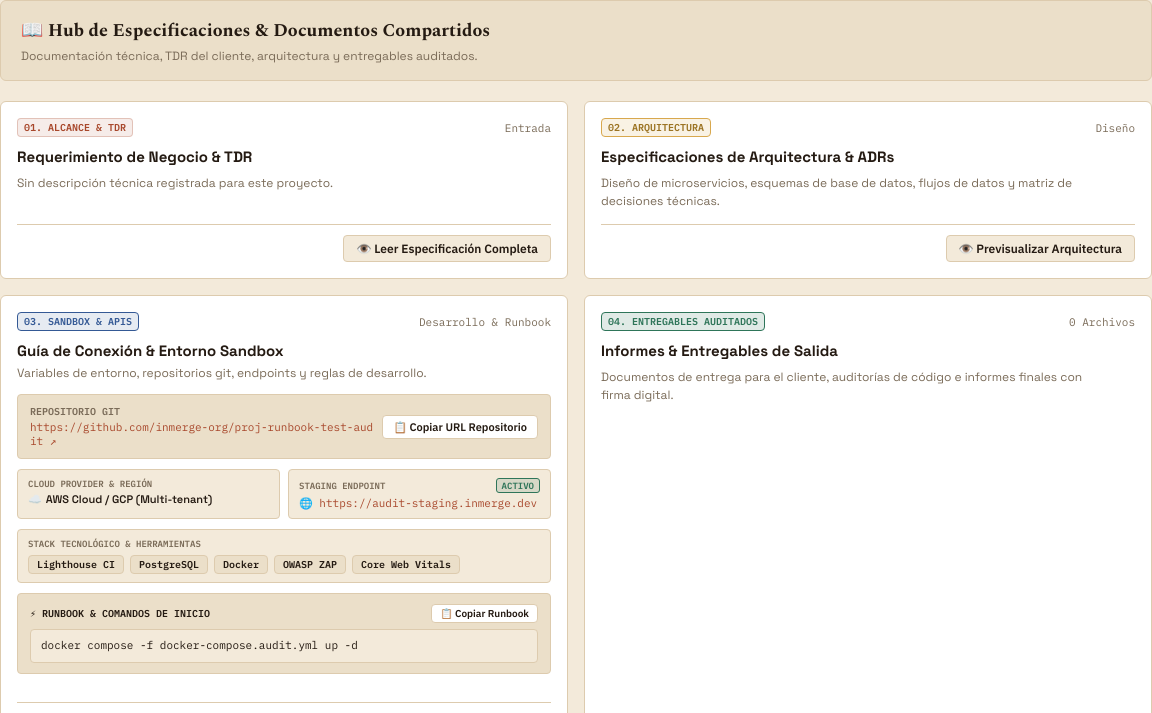
Test case: ProjectDocumentHub › permite copiar el runbook de entorno con feedback visual temporal
Click the button "📋 Copiar Runbook" at (485, 614), box x1=431 y1=604 x2=538 y2=623
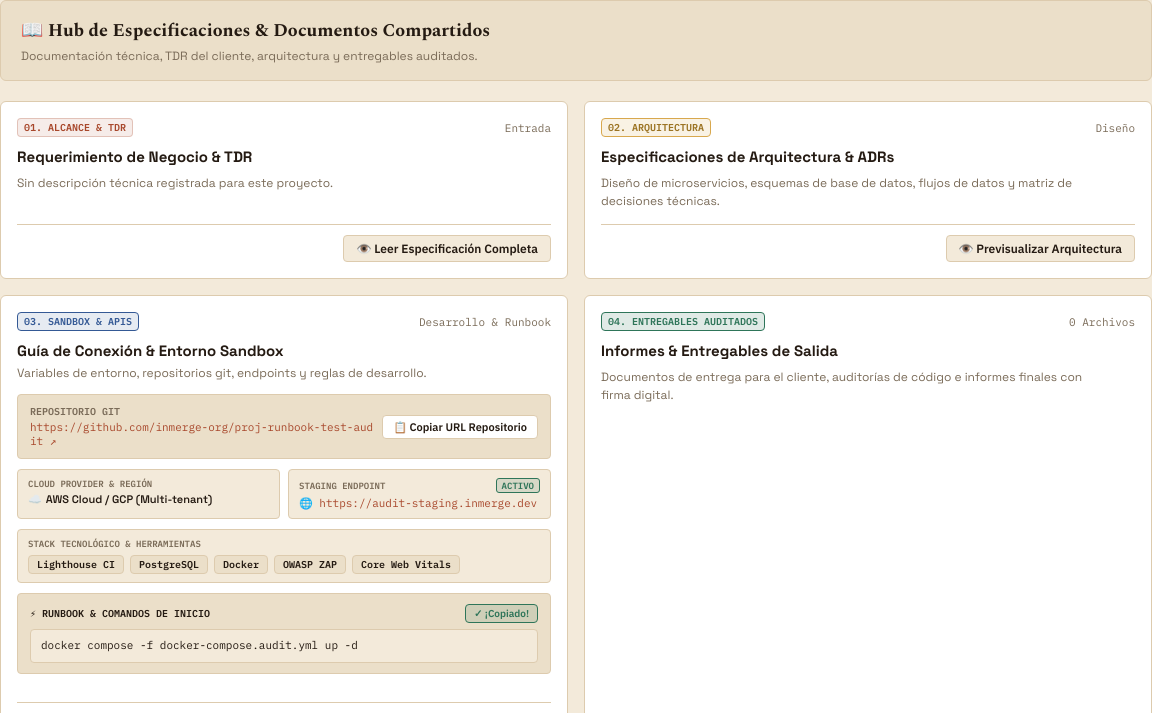
expect the button "✓ ¡Copiado!" is shown: met, box x1=465 y1=604 x2=538 y2=623
